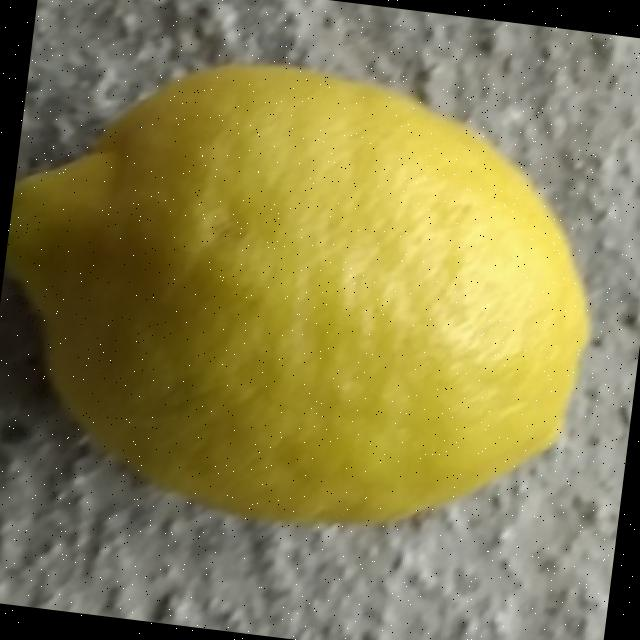Ripe: (0, 27, 623, 562)
